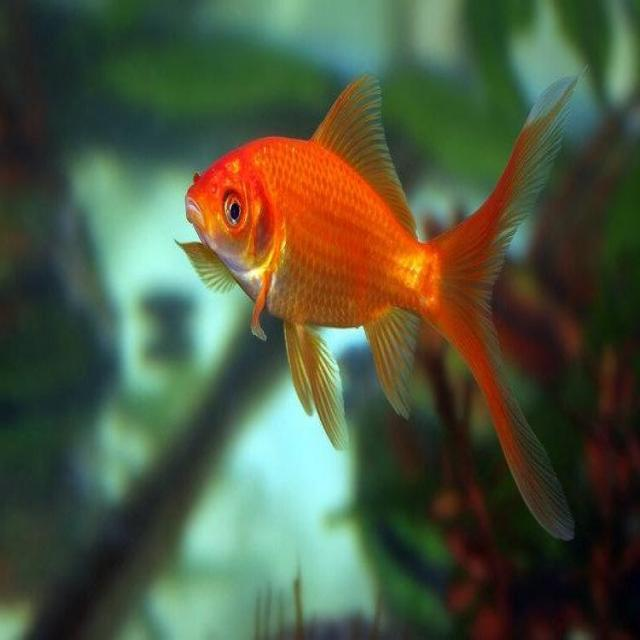GoldFish: (175, 68, 582, 549)
